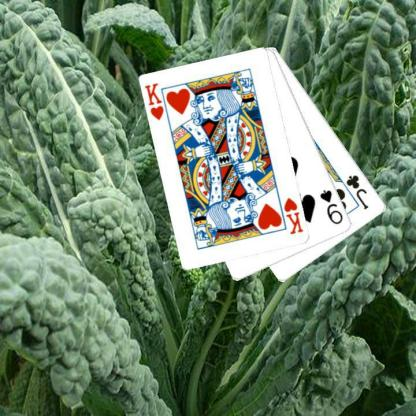9S: (317, 187, 344, 226)
JC: (344, 172, 370, 211)
KH: (281, 195, 305, 236), (143, 80, 166, 122)
